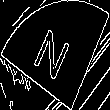N_SW: (33, 23, 77, 87)
